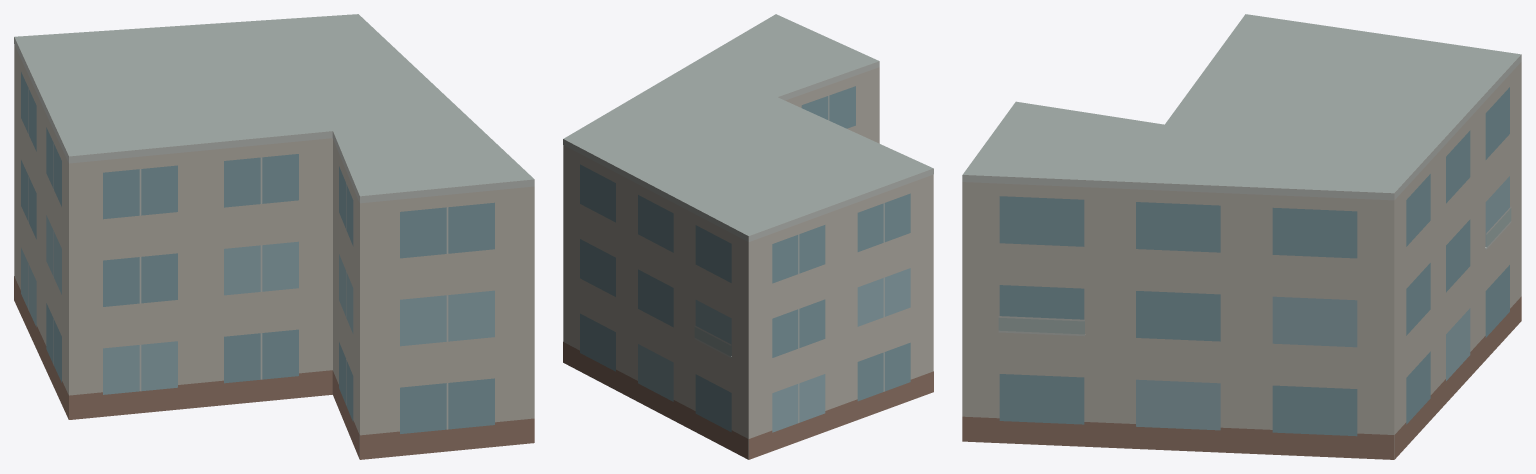
File: survey-upis-32658505.glb
3 views of the same model, side by side, from view 1: azimuth 30°, elevation 25°; view 2: azimuth 150°, elevation 25°; view 3: azimuth 270°, elevation 25° (orthographic). The views are drawn at different scales.
Parts seen in each view (by area): view 1: survey-upis-32658505.tmp; view 2: survey-upis-32658505.tmp; view 3: survey-upis-32658505.tmp.
Boxes of the visible parts, bbox=[...] form: survey-upis-32658505.tmp: bbox=[14, 14, 534, 459]; survey-upis-32658505.tmp: bbox=[563, 14, 933, 459]; survey-upis-32658505.tmp: bbox=[962, 14, 1521, 459].
Size of the model in its own units: 13.13 by 9.1 by 17.31.
